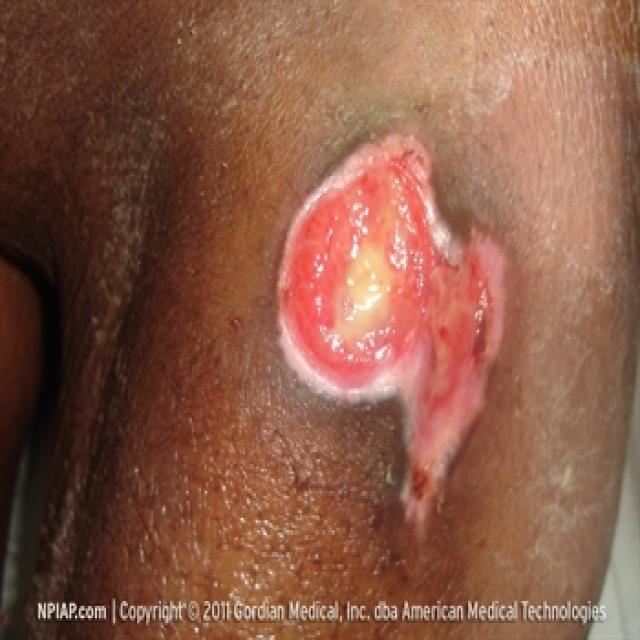stage-3: (278, 148, 498, 507)
